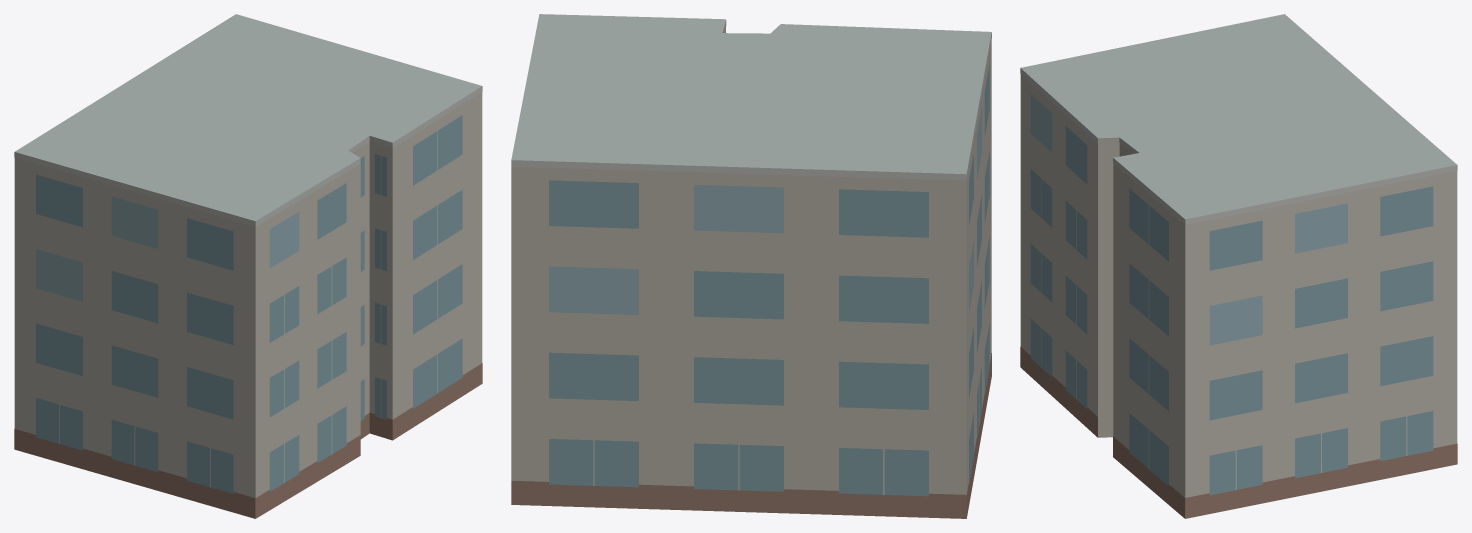
Rendered from survey-upis-32746473.glb.
3 renders of one model, left to right at view 1: azimuth 30°, elevation 25°; view 2: azimuth 150°, elevation 25°; view 3: azimuth 270°, elevation 25°, orthographic. The views are drawn at different scales.
Visible parts, largest first — view 1: survey-upis-32746473.tmp; view 2: survey-upis-32746473.tmp; view 3: survey-upis-32746473.tmp.
Boxes of the visible parts, bbox=[...] form: survey-upis-32746473.tmp: bbox=[14, 14, 482, 518]; survey-upis-32746473.tmp: bbox=[511, 14, 991, 518]; survey-upis-32746473.tmp: bbox=[1020, 14, 1457, 518].
Size of the model in its own units: 19.13 by 13 by 17.2.
